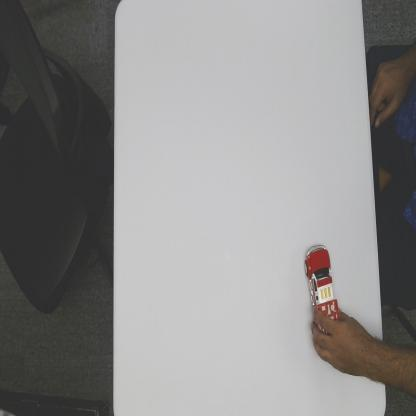Firetruck: (304, 242, 335, 311)
Hand: (311, 310, 375, 380)
